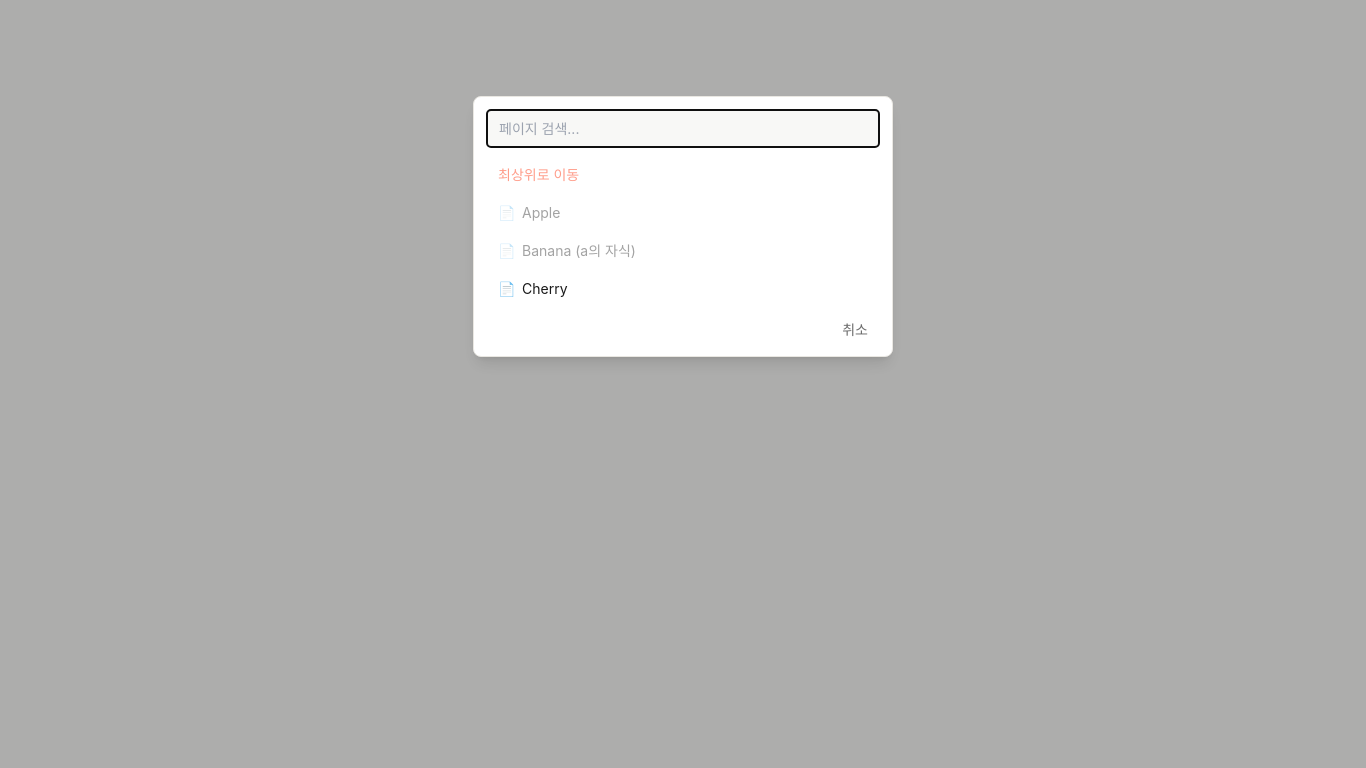
it: MovePageModal › 검색 필터 동작
Type "Cherry" into the field with placeholder "페이지 검색...". click: x=683, y=128
box: 486,109 -> 880,148
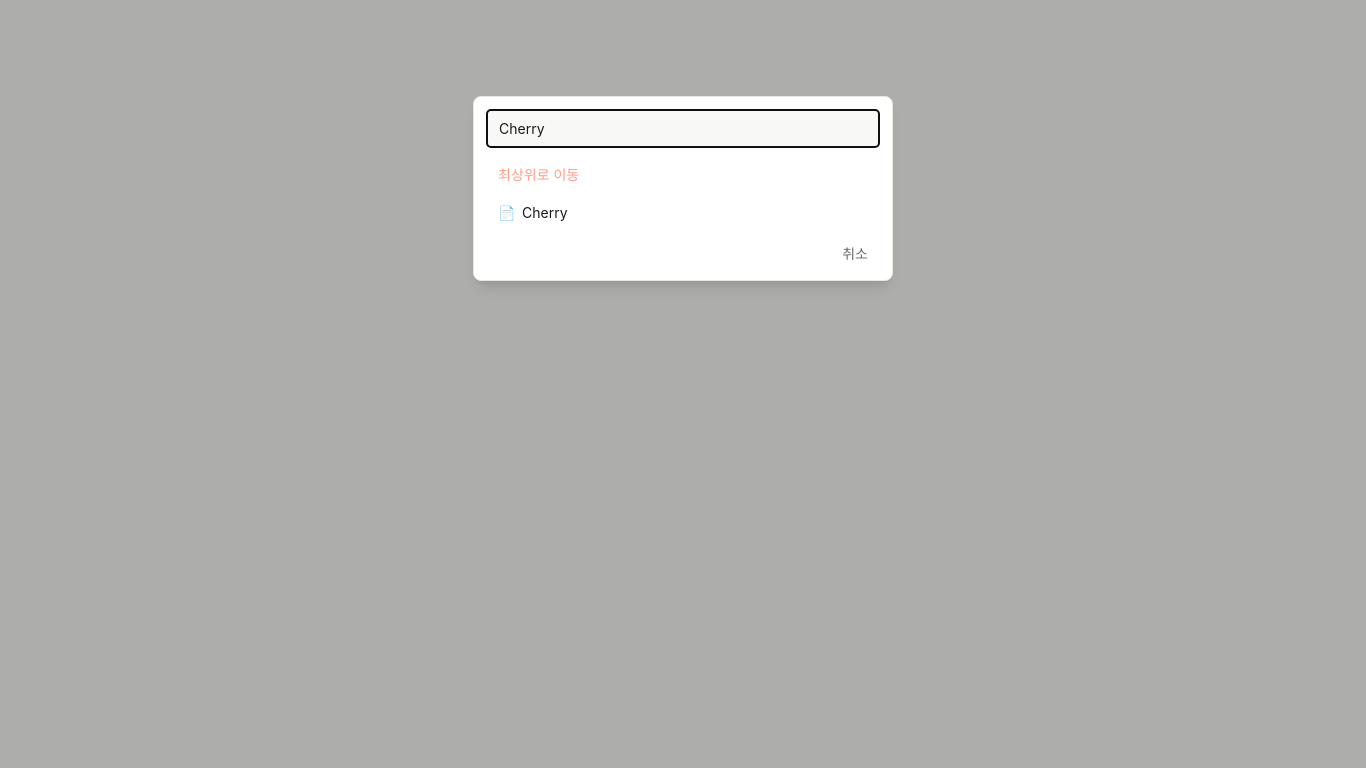
Expected: the button "📄 Cherry" is shown, 486,194 -> 880,231
Now the button "Apple" is gone
